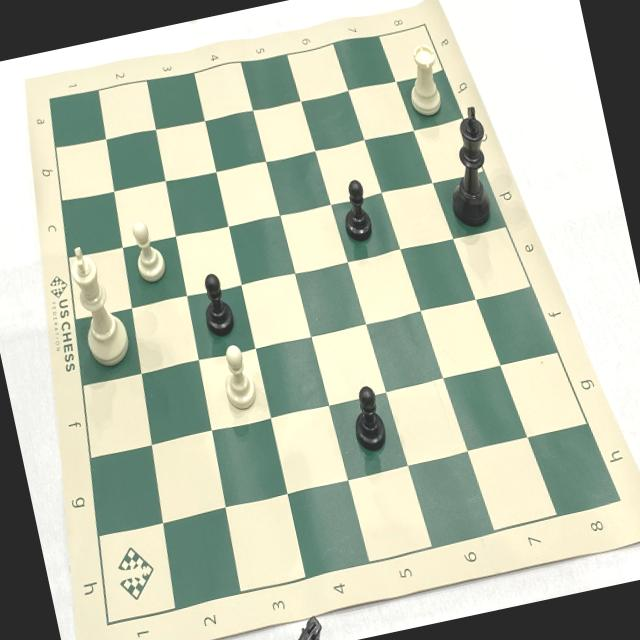black-king: (428, 98, 506, 232)
black-pawn: (341, 371, 394, 458), (191, 260, 241, 342), (332, 170, 378, 248)
white-king: (59, 235, 137, 376)
white-pawn: (210, 338, 265, 418), (122, 211, 172, 287)
white-rook: (397, 34, 452, 124)
